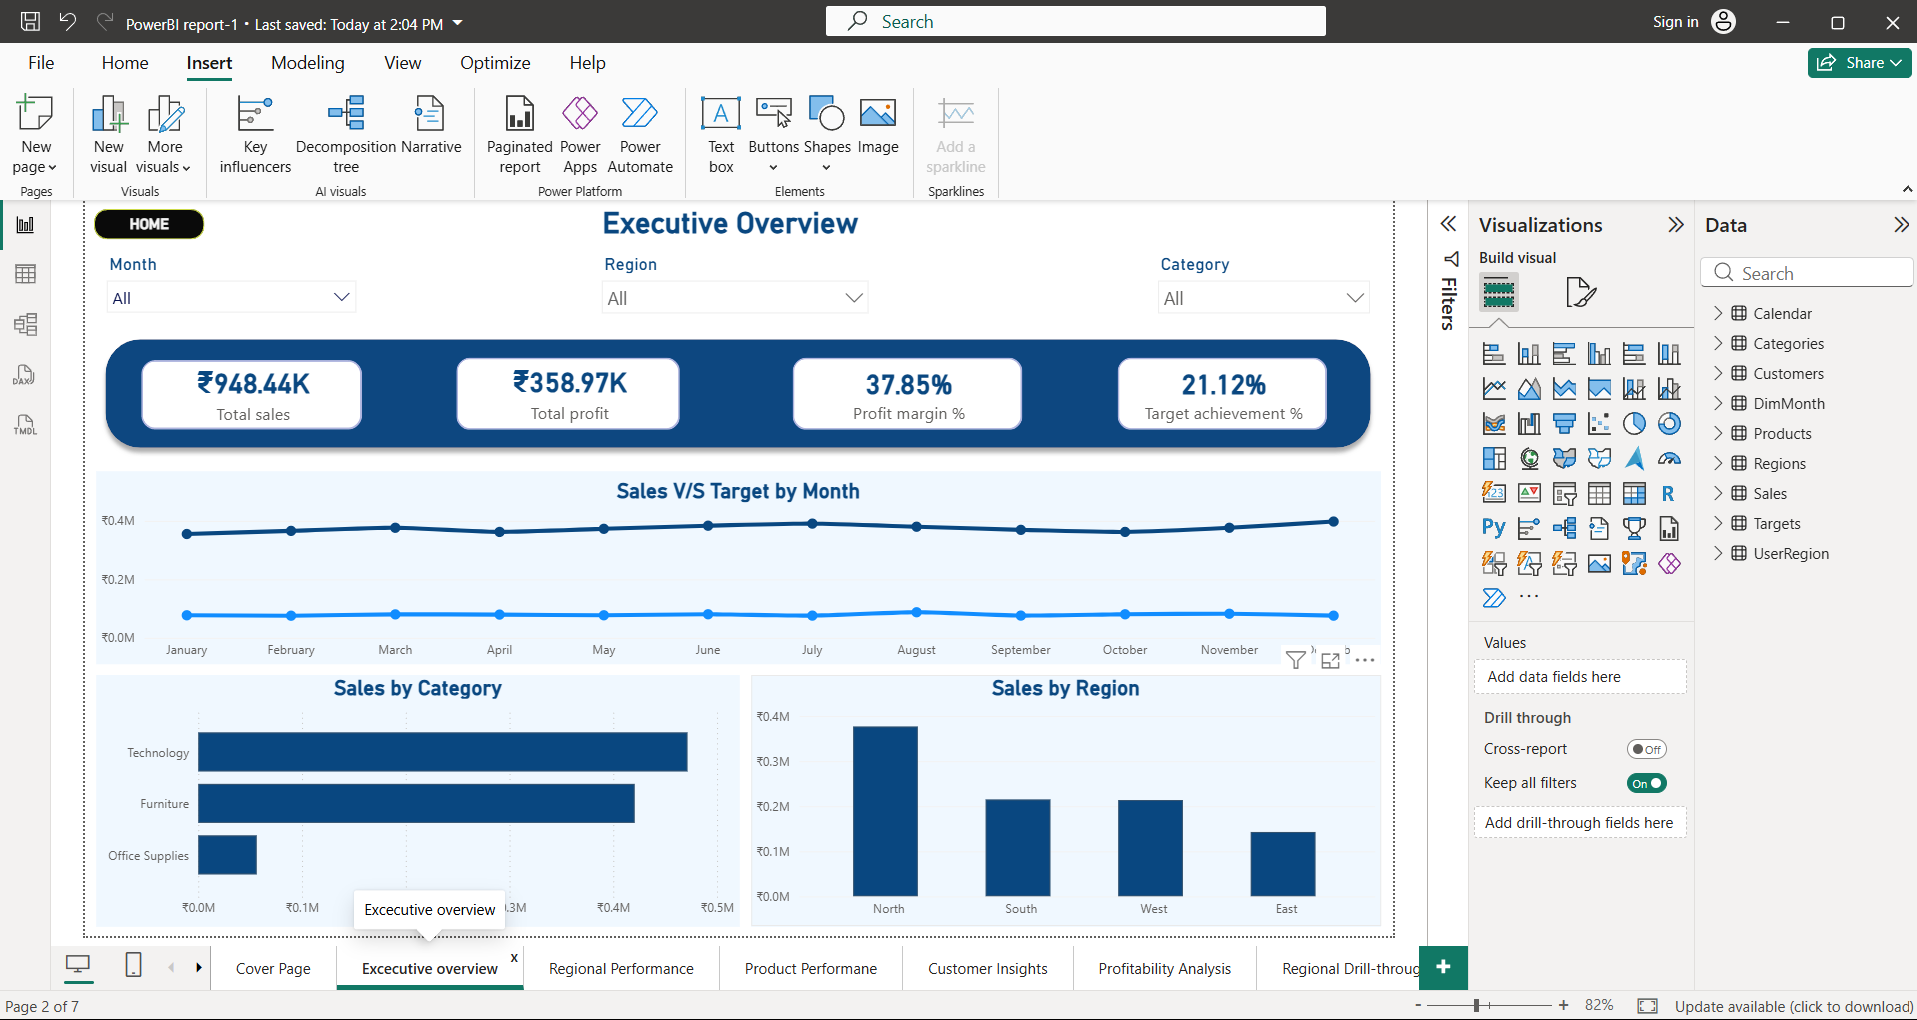

The page's visual inventory and layout, read from the dashboard file:
{"tool":"powerbi","page":{"name":"Excecutive overview","canvas":[1280,720],"ordinal":1},"visuals":[{"type":"shape","box":[11.4,127.1,1255.7,124.3],"z":0},{"type":"textbox","box":[501.4,0,275.7,47.1],"z":1000},{"type":"slicer","fields":{"Values":["DimMonth.Month"]},"box":[11.3,47.6,264.1,67.6],"z":2000},{"type":"slicer","fields":{"Values":["Regions.Region"]},"box":[495.6,47.6,281.6,67.6],"z":3000},{"type":"slicer","fields":{"Values":["Categories.Category"]},"box":[1040,47.6,227.8,67.6],"z":4000},{"type":"cardVisual","fields":{"Data":["Sales.total sales"]},"box":[37.1,138.6,252.9,104.3],"z":5000},{"type":"cardVisual","fields":{"Data":["Sales.total profit"]},"box":[344.3,135.7,255.7,107.1],"z":6000},{"type":"cardVisual","fields":{"Data":["Sales.profit margin %"]},"box":[674.3,135.7,261.4,107.1],"z":7000},{"type":"cardVisual","fields":{"Data":["Targets.target achievement %"]},"box":[991.4,135.7,241.4,107.1],"z":8000},{"type":"lineChart","title":"Sales V/S Target by Month","fields":{"Y":["Sales.total sales","Targets.total target"],"Category":["DimMonth.MonthYear.Variation.Date Hierarchy.Month"]},"box":[11.3,265.3,1256.5,189],"z":9000},{"type":"clusteredBarChart","title":"Sales by Category","fields":{"Category":["Categories.Category"],"Y":["Sales.total sales"]},"box":[11.3,464.3,629.5,246.5],"z":10000},{"type":"columnChart","title":"Sales by Region","fields":{"Category":["Regions.Region"],"Y":["Sales.total sales"]},"box":[652,464.3,615.7,246.5],"z":11000},{"type":"actionButton","box":[0,0,126,47.7],"z":12000}]}

Visuals, with their boxes on the page's 1280x720 design canvas (x1, y1, x2, y2). These are canvas units, not pixel positions in the 1917x1020 screenshot, which may show the page scaled, cropped or inside an application window:
shape: 11/127/1267/251
textbox: 501/0/777/47
slicer - DimMonth.Month: 11/48/275/115
slicer - Regions.Region: 496/48/777/115
slicer - Categories.Category: 1040/48/1268/115
cardVisual - Sales.total sales: 37/139/290/243
cardVisual - Sales.total profit: 344/136/600/243
cardVisual - Sales.profit margin %: 674/136/936/243
cardVisual - Targets.target achievement %: 991/136/1233/243
"Sales V/S Target by Month" lineChart: 11/265/1268/454
"Sales by Category" clusteredBarChart: 11/464/641/711
"Sales by Region" columnChart: 652/464/1268/711
actionButton: 0/0/126/48
